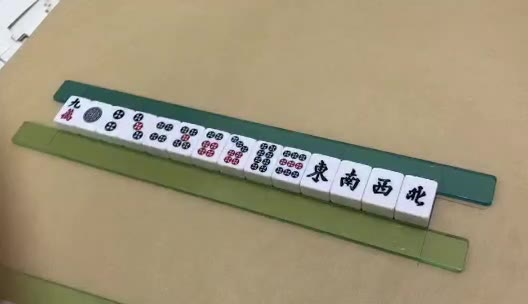1p: (82, 107, 102, 123)
1z: (307, 159, 328, 185)
2p: (105, 109, 125, 131)
2z: (340, 169, 361, 190)
3p: (133, 113, 144, 140)
3z: (373, 178, 393, 195)
4p: (149, 120, 171, 141)
4z: (406, 185, 426, 208)
5p: (171, 126, 196, 149)
6p: (198, 131, 224, 158)
7p: (224, 135, 249, 164)
8p: (250, 143, 274, 170)
9m: (59, 98, 81, 120)
9p: (276, 150, 306, 178)
